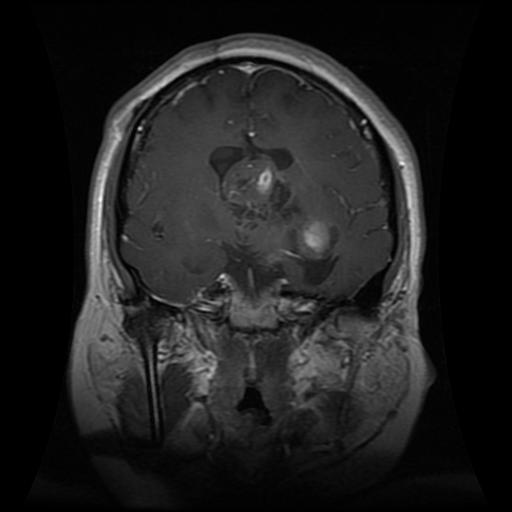Gliomia_tumour: (205, 141, 340, 283)
